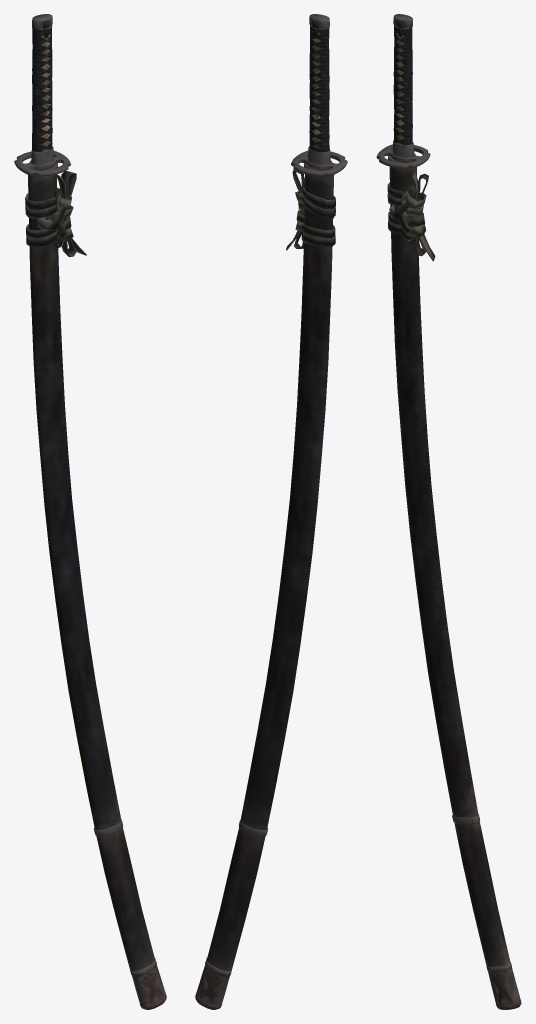
The model's file is weapon-wp_a_0551.glb.
The picture shows the model from 3 angles, left to right: view 1: azimuth 30°, elevation 25°; view 2: azimuth 150°, elevation 25°; view 3: azimuth 330°, elevation 25°; orthographic projection. The views are drawn at different scales.
Visible parts, largest first — view 1: wp_a_0551_mesh; view 2: wp_a_0551_mesh; view 3: wp_a_0551_mesh.
Part boxes in pixels (x1,y1,x2,y2): wp_a_0551_mesh: (14, 14, 166, 1009); wp_a_0551_mesh: (195, 14, 347, 1009); wp_a_0551_mesh: (376, 14, 521, 1009).
Size of the model in its own units: 0.3149 by 2.09 by 0.1009.
Materials: 2 (2 with a texture image).
